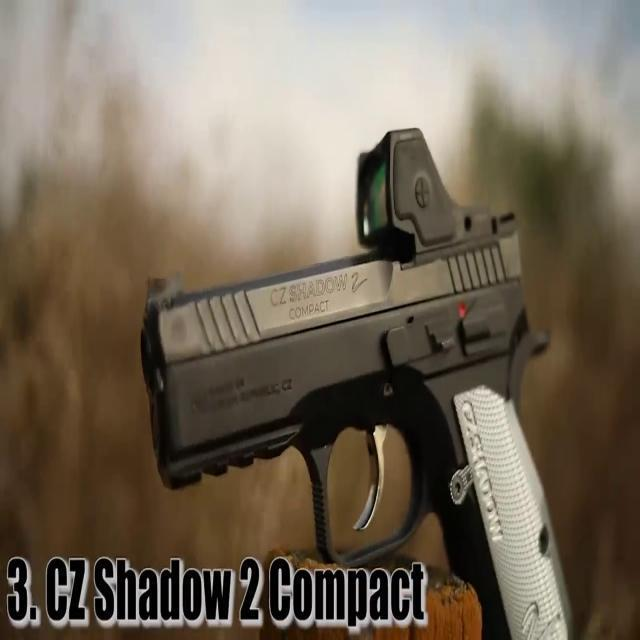Handgun: (137, 130, 582, 640)
